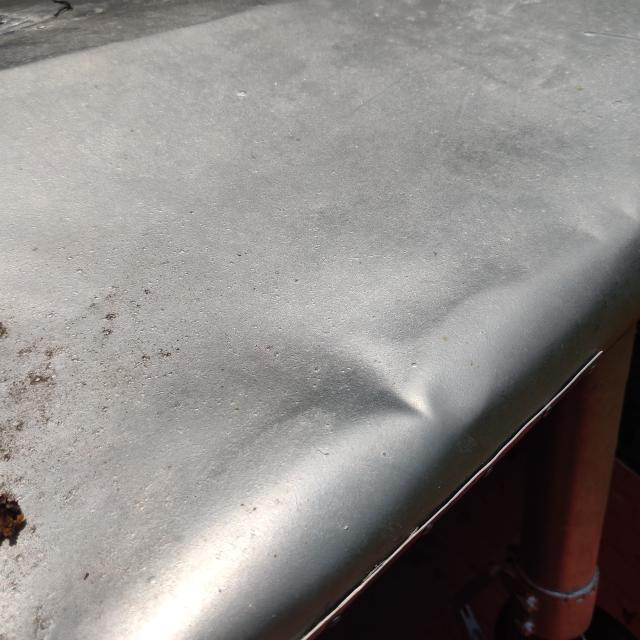dent: (271, 290, 448, 458)
